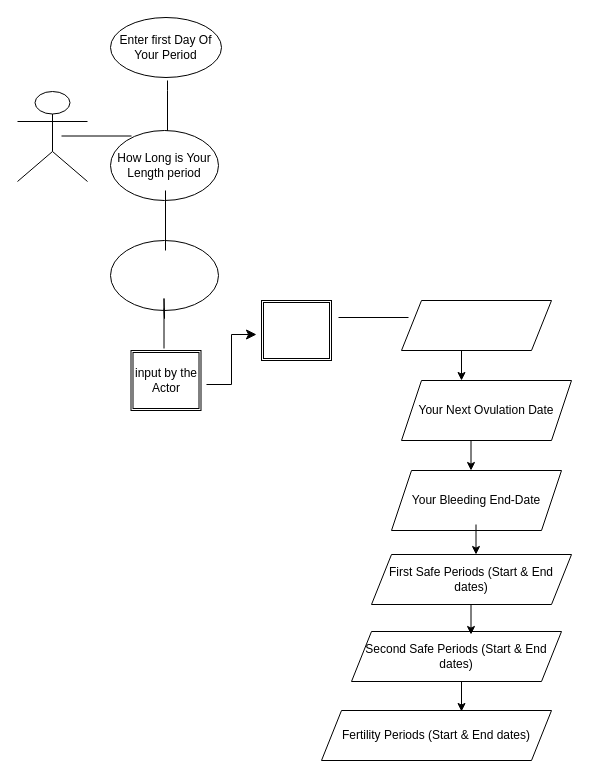
Image size: 589x778. Some labels were removed from this diagram. Here are the shapes that lost their labels. From the top down, the centre of each, then its label:
At point 52,136: "Actor".
At point 164,275: "How Long is your Period Cycle".
At point 296,330: "Outputs From My Program".
At point 476,325: "Your Next Period Date".
